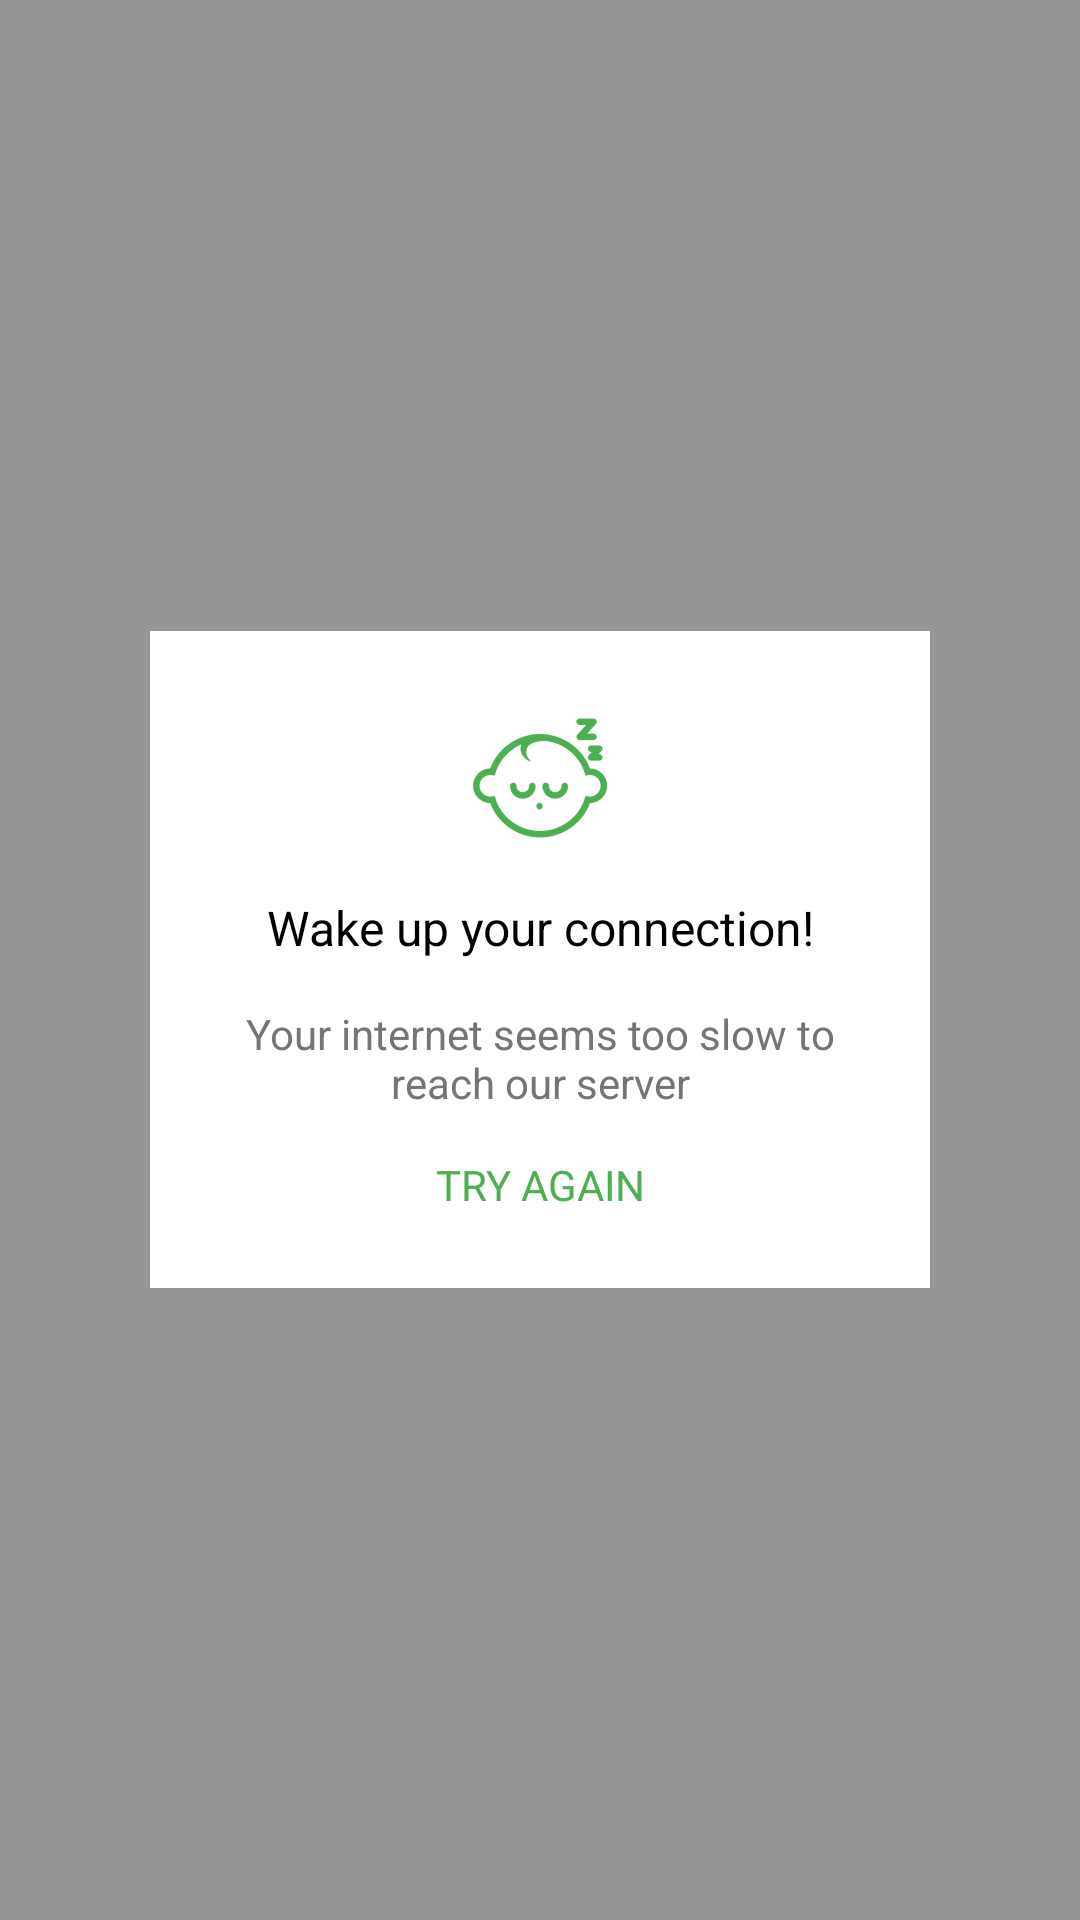

Screen size 1080w x 1920h. Icon name, then its box in pixels as (x1, y1, x2, y2):
sleep: (473, 718, 607, 838)
